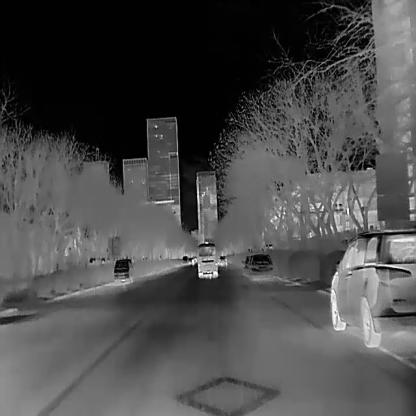bus: (196, 241, 218, 277)
car: (330, 226, 416, 347), (247, 254, 272, 280), (112, 258, 133, 284), (181, 254, 188, 264)
